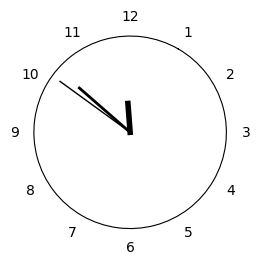12: (122, 9, 138, 23)
circle: (34, 36, 227, 229)
hours: (124, 100, 133, 135)
minutes: (77, 86, 126, 130)
seconds: (59, 81, 124, 129)
